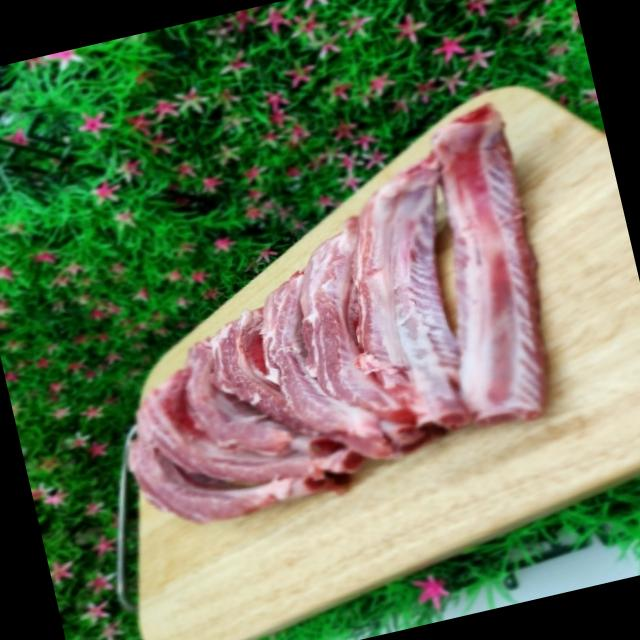pork: (59, 126, 617, 572)
